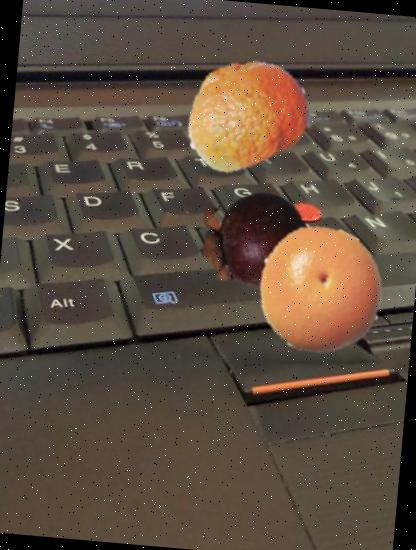Grapefruit: (252, 222, 390, 360)
Mandarine: (176, 45, 316, 184)
Mangostan: (194, 181, 312, 300)
